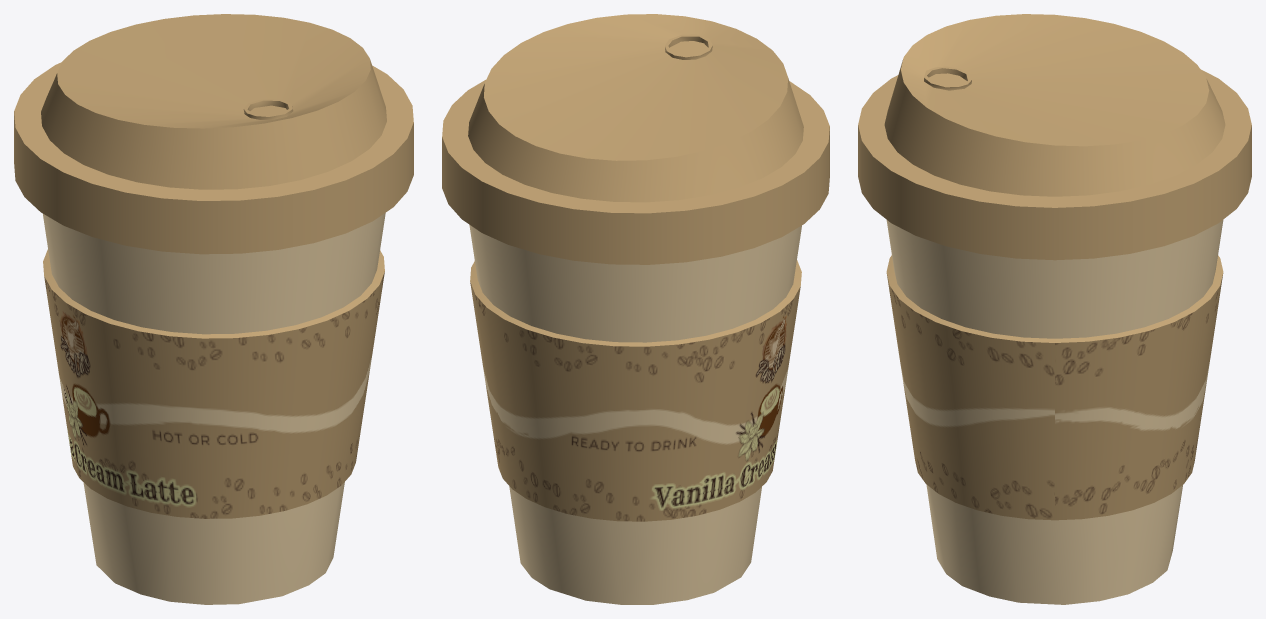
File: coffee_latte.fbx
3 renders of one model, left to right at view 1: azimuth 30°, elevation 25°; view 2: azimuth 150°, elevation 25°; view 3: azimuth 270°, elevation 25°, orthographic. The views are drawn at different scales.
Visible parts, largest first — view 1: coffee_latte; view 2: coffee_latte; view 3: coffee_latte.
Boxes of the visible parts, x1,y1,x2,y2 form: coffee_latte: [14, 14, 413, 604]; coffee_latte: [442, 14, 829, 604]; coffee_latte: [858, 14, 1251, 604].
Bounding box in the file's own units: 70.93 × 96.51 × 70.93.
